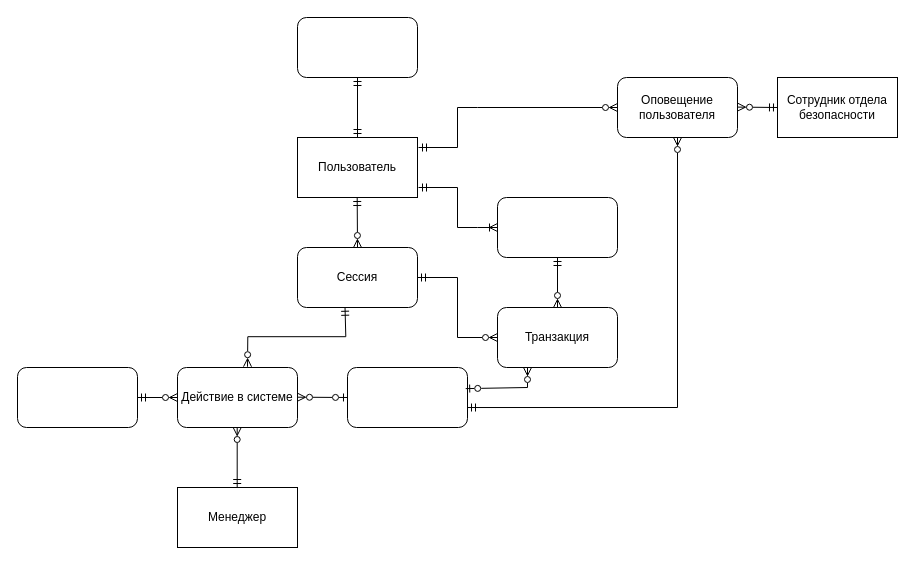
The diagram is 915 pixels wide and 565 high, and some of its shapes have lost their labels. The shapes that lost their labels are listed below. From the top down, each one's centre as x and y in pixels, then its label:
At (357,47): "Учётная запись".
At (557,227): "Счёт".
At (77,397): "Услуга".
At (407,397): "Журнал подозрительных транзакций".
